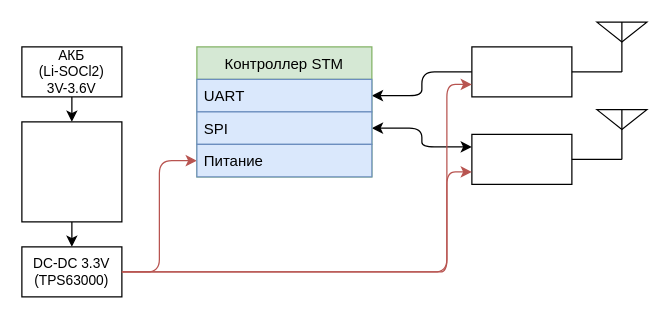
Image size: 669x319. Some labels were removed from this diagram. The box of each missing label's shape, as (x1, y1, x2, y2) in pixels:
GPS Модуль: (471, 46, 572, 97)
LoRa: (471, 133, 572, 184)
Система контроля АКБ: (21, 121, 122, 222)
